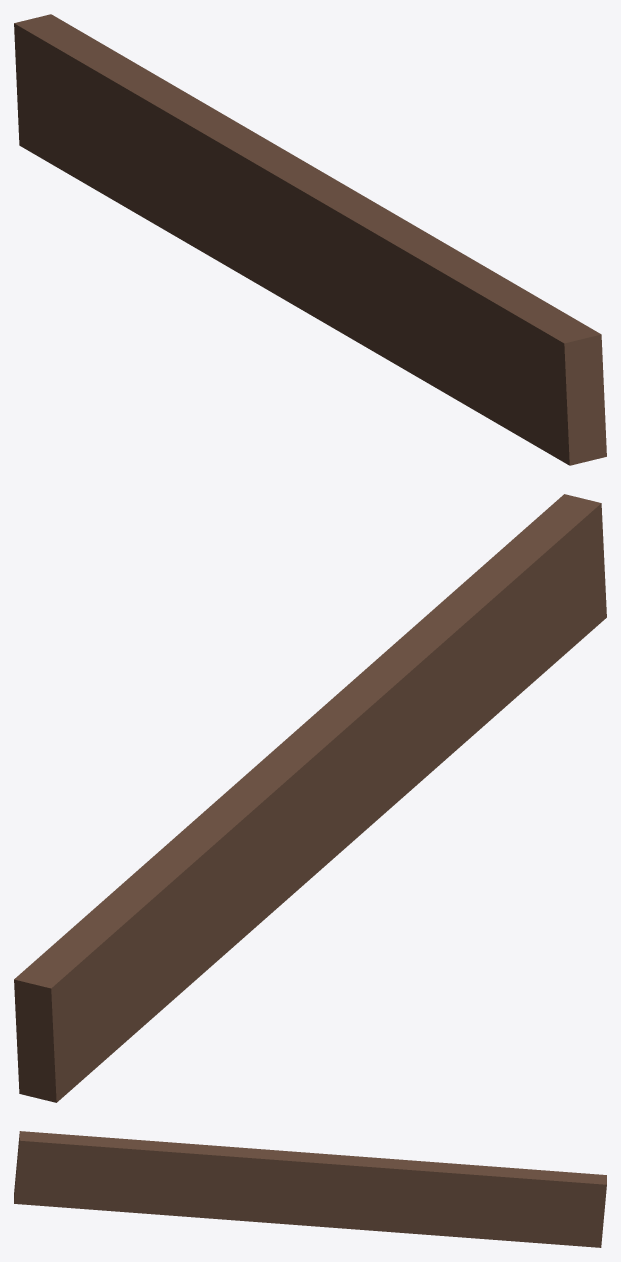
The picture shows the model from 3 angles, top to bottom: view 1: azimuth 30°, elevation 25°; view 2: azimuth 150°, elevation 25°; view 3: azimuth 270°, elevation 25°; orthographic projection. The views are drawn at different scales.
Parts seen in each view (by area): view 1: Cube.019; view 2: Cube.019; view 3: Cube.019.
Boxes of the visible parts, <box> form: Cube.019: <box>14,14,606,465</box>; Cube.019: <box>14,494,606,1102</box>; Cube.019: <box>14,1131,606,1247</box>.
Bounding box in the file's own units: 0.0392 × 0.2021 × 1.01.
